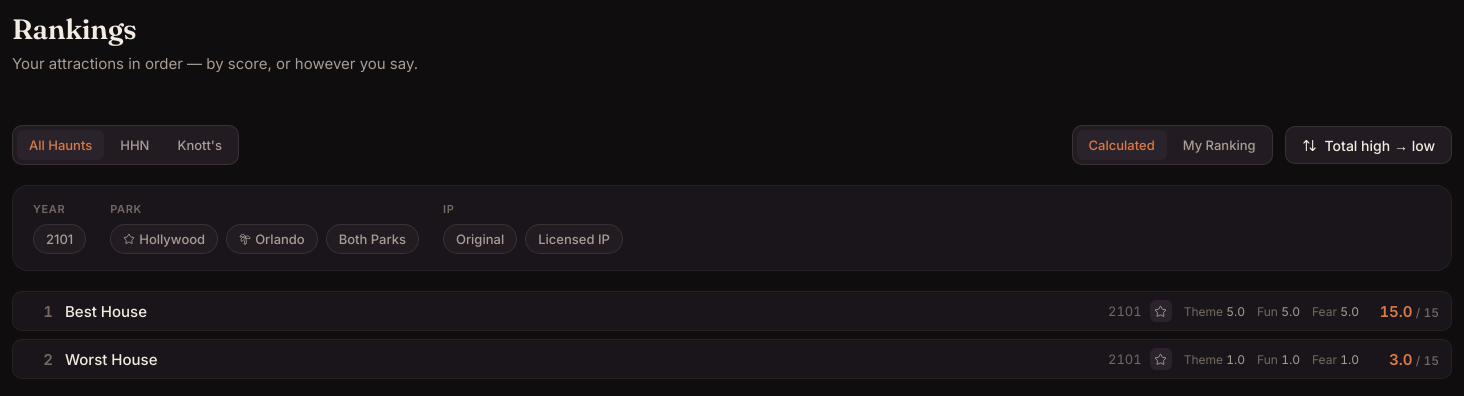
Test: Rankings › hovering an entry › shows the shared attraction preview card after the hover delay
// The whole row body is the hover target, not just the name.
Hover over the element with class "ranking-row__inner" that starts with "Best House" at (732, 311), box [12, 291, 1452, 331]
Wait 400 ms
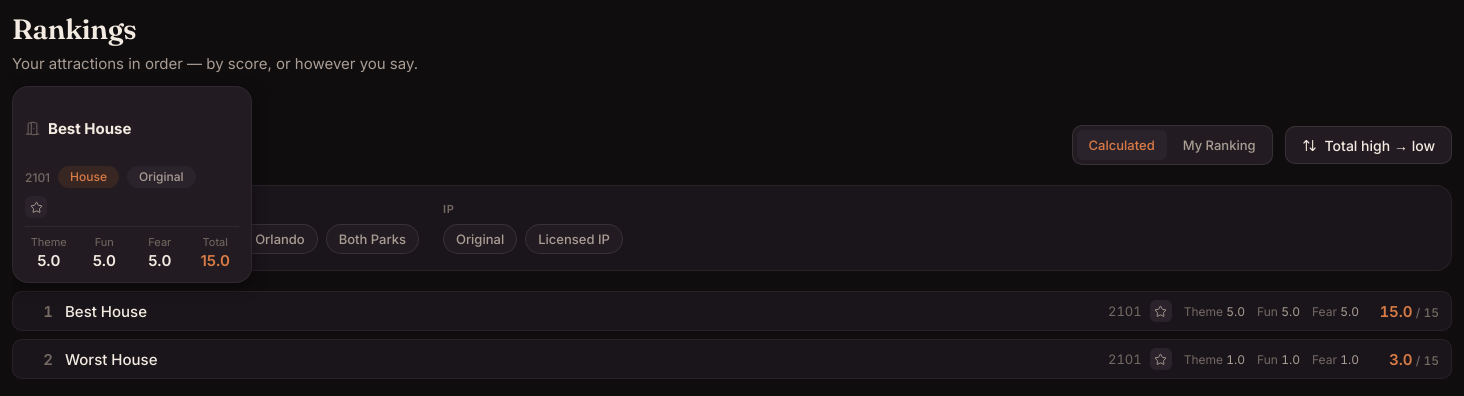
Check: the element with class "attraction-hover-preview__popup" is shown, box [12, 86, 252, 283]
Check: the text "Total" is shown, box [203, 235, 228, 249]
